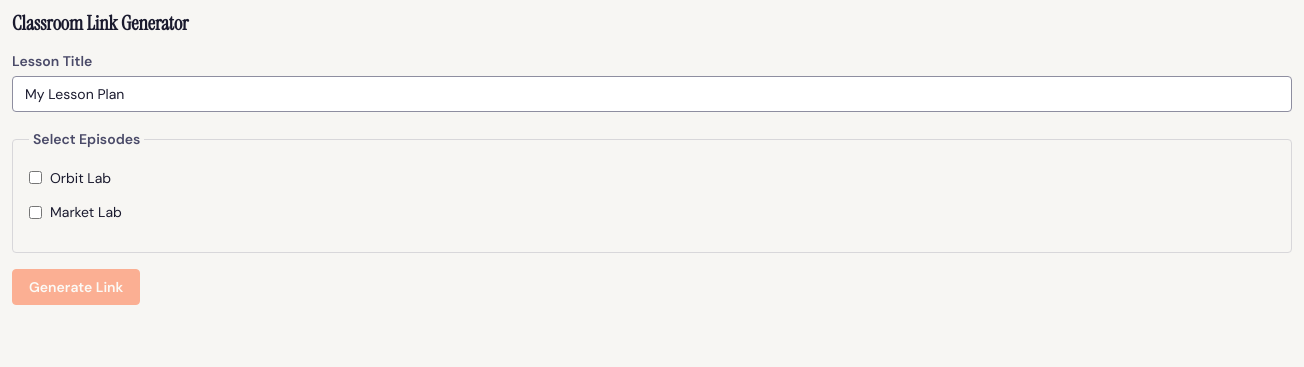
Test: LinkGenerator › shows missions when an episode is selected
Click the checkbox labelled "Orbit Lab" at (36, 178), box [29,172,42,184]
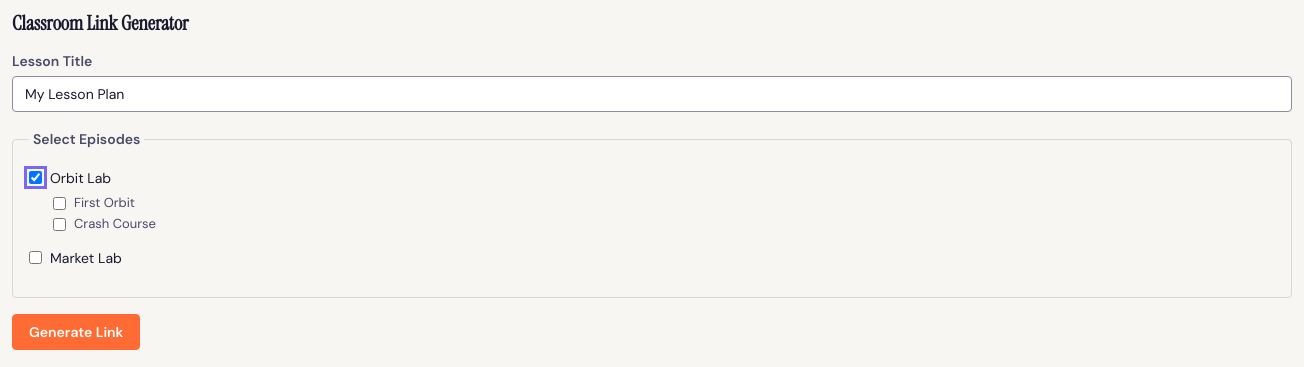
Check: the text "First Orbit" is shown, box [74,193,135,214]
Check: the text "Crash Course" is shown, box [74,214,156,235]
